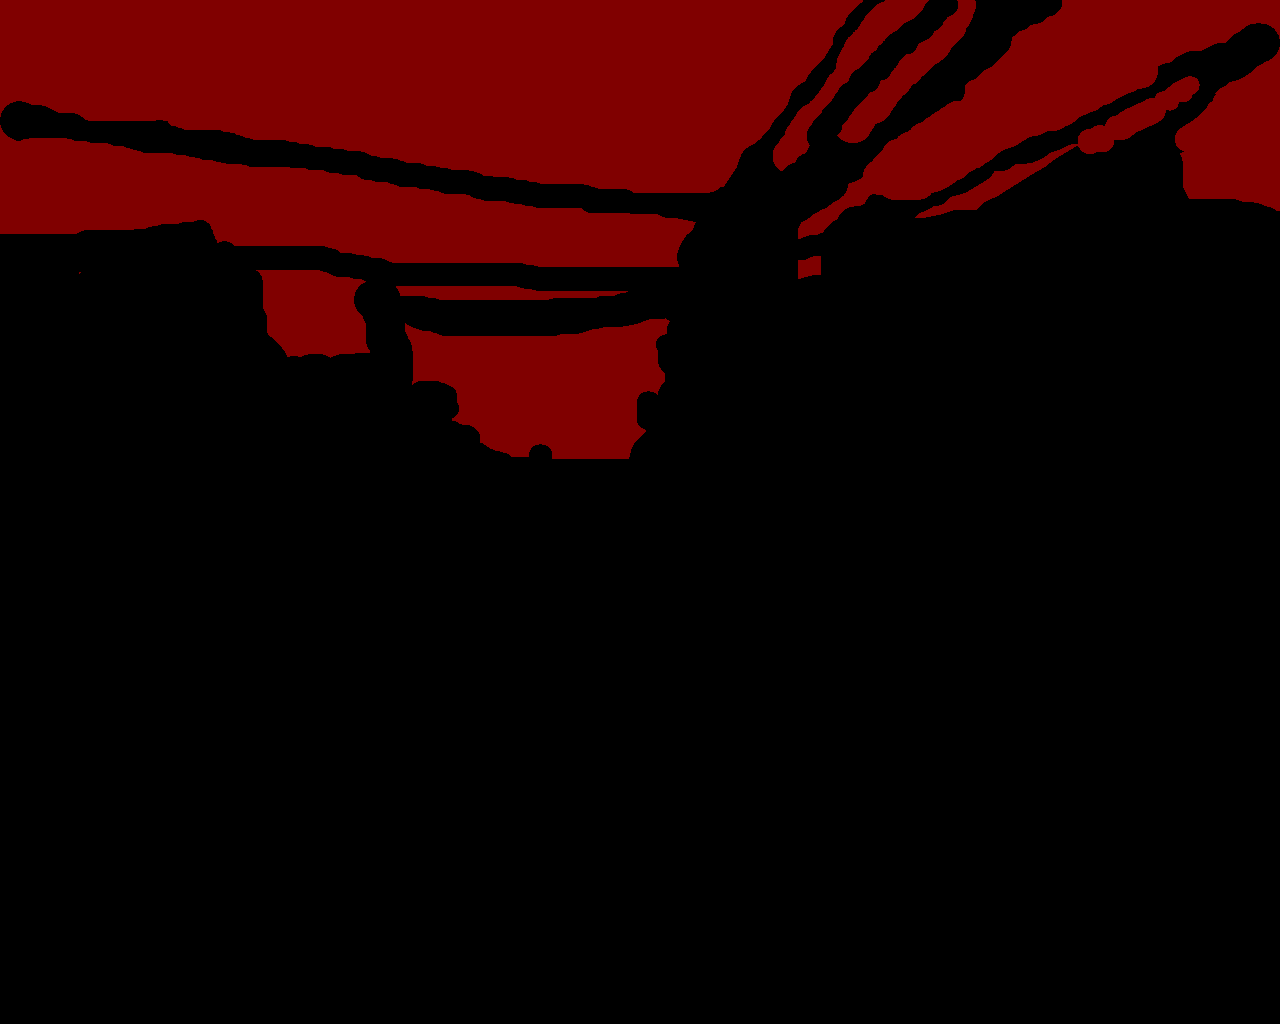Sky: (1, 1, 1279, 459)
